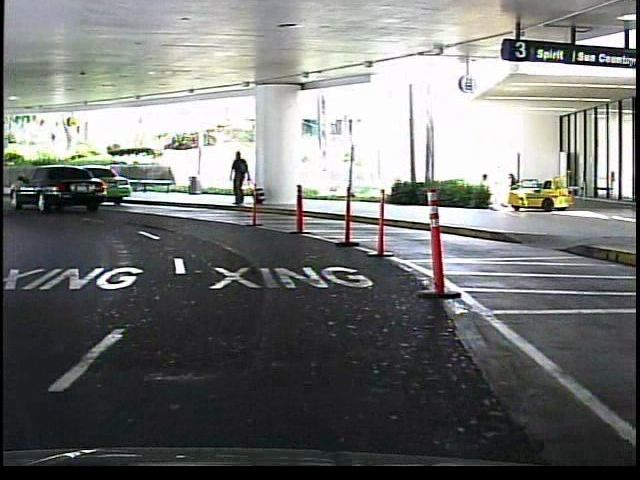person: (224, 149, 252, 212)
